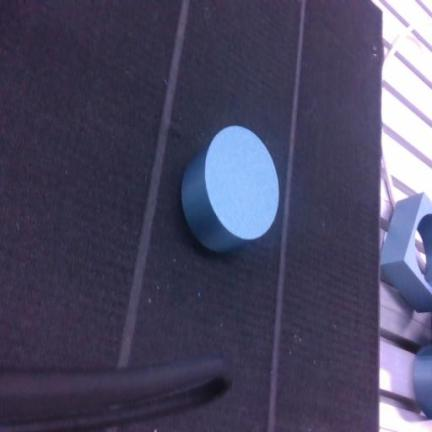cylinder: (181, 126, 278, 251)
